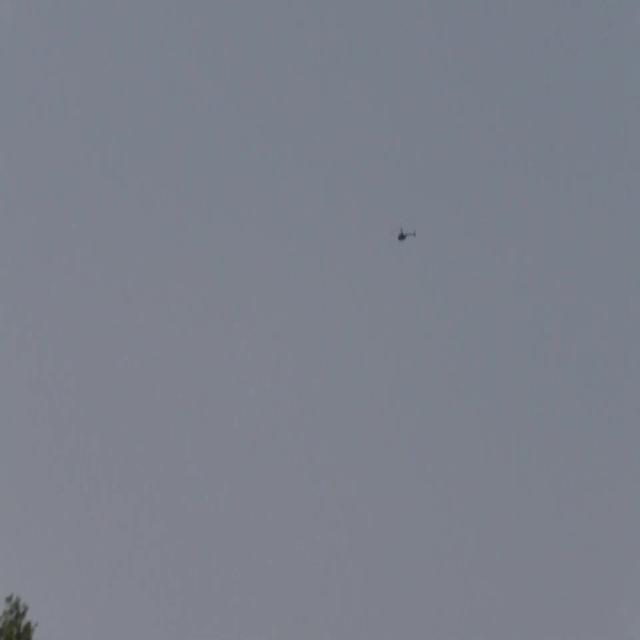CIV_HELO: (398, 228, 417, 244)
